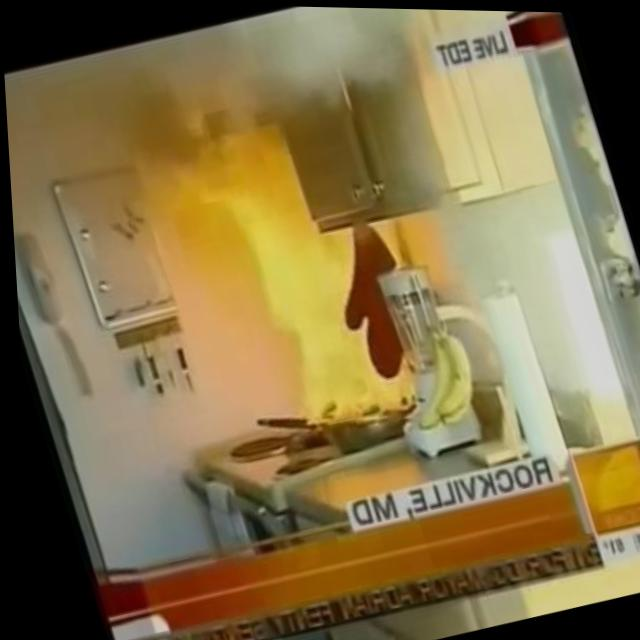fire: (224, 168, 412, 441)
